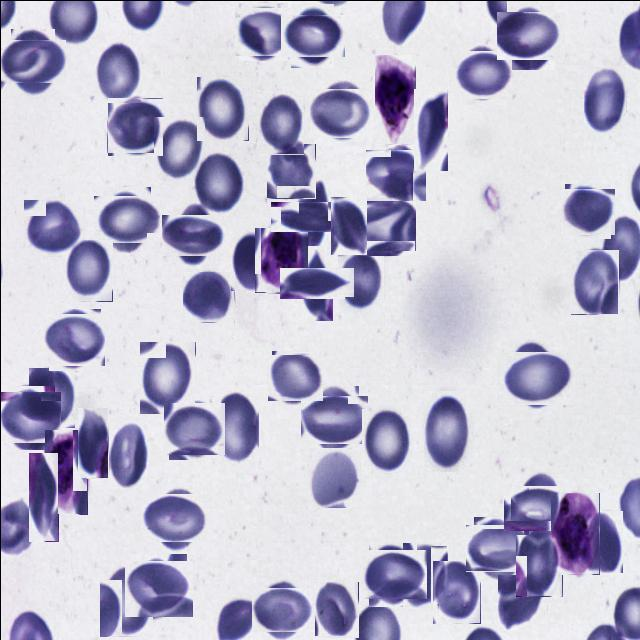difficult: (550, 492, 599, 574), (44, 429, 87, 514), (254, 226, 308, 292)
red blood cell: (502, 344, 568, 410), (139, 341, 195, 414), (423, 389, 470, 472), (127, 556, 189, 618), (99, 566, 153, 636), (23, 199, 84, 256), (191, 151, 245, 215), (147, 488, 206, 546), (354, 194, 412, 253), (305, 390, 363, 448), (501, 6, 559, 64), (0, 388, 58, 446), (508, 478, 566, 536), (212, 390, 258, 463), (196, 76, 248, 140), (312, 84, 370, 141), (364, 545, 422, 602), (361, 408, 411, 474), (153, 116, 204, 180), (165, 399, 222, 456), (98, 190, 154, 248), (46, 310, 102, 368), (308, 447, 360, 508), (570, 248, 618, 314), (61, 239, 112, 301), (106, 98, 162, 154), (468, 520, 524, 576), (367, 147, 423, 203), (283, 188, 339, 244), (402, 542, 447, 610), (432, 560, 480, 623), (256, 92, 304, 154), (5, 34, 60, 88), (455, 47, 509, 101), (284, 8, 338, 62), (515, 534, 562, 596), (236, 4, 289, 58), (337, 250, 383, 312), (93, 42, 140, 102), (255, 583, 308, 636), (290, 256, 343, 309), (167, 208, 219, 262), (413, 88, 447, 170), (583, 66, 625, 132), (28, 367, 74, 427), (497, 574, 546, 630), (108, 417, 146, 489), (266, 143, 315, 198), (28, 452, 58, 541), (182, 271, 234, 322), (269, 352, 320, 403), (562, 185, 612, 236), (314, 580, 358, 636), (583, 509, 622, 572), (77, 407, 108, 478), (330, 196, 366, 253), (230, 231, 264, 290)
schizont: (372, 54, 416, 144)
